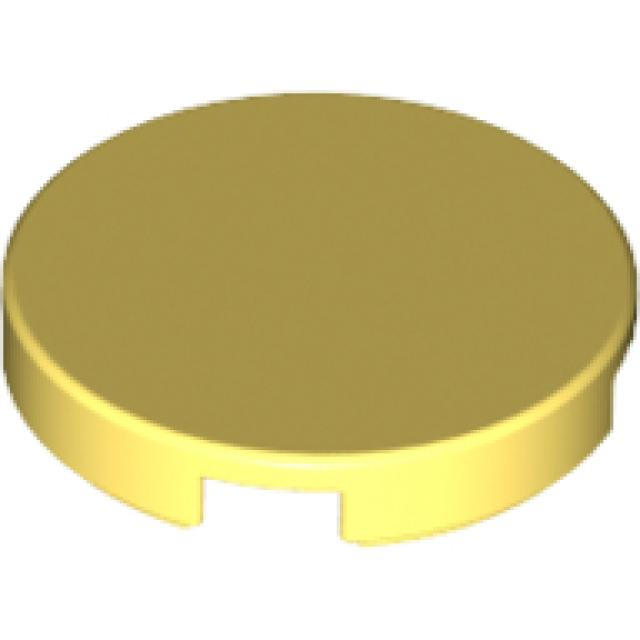Yellow_Small: (3, 93, 640, 550)
